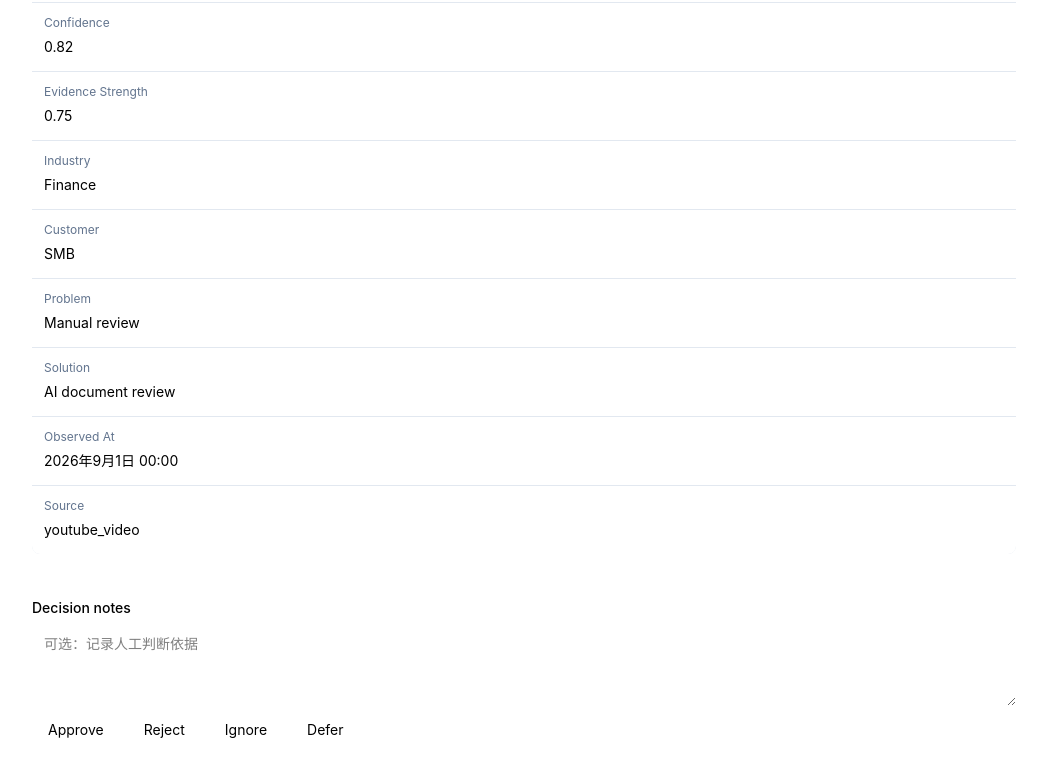
Test: Admin review workspace › sends centralized defer signal decision with notes
(page scrolled)
Type "Human checked" into the text box labelled "Decision notes".
click(524, 664); type("Human checked")  # box left=32, top=622, right=1016, bottom=706
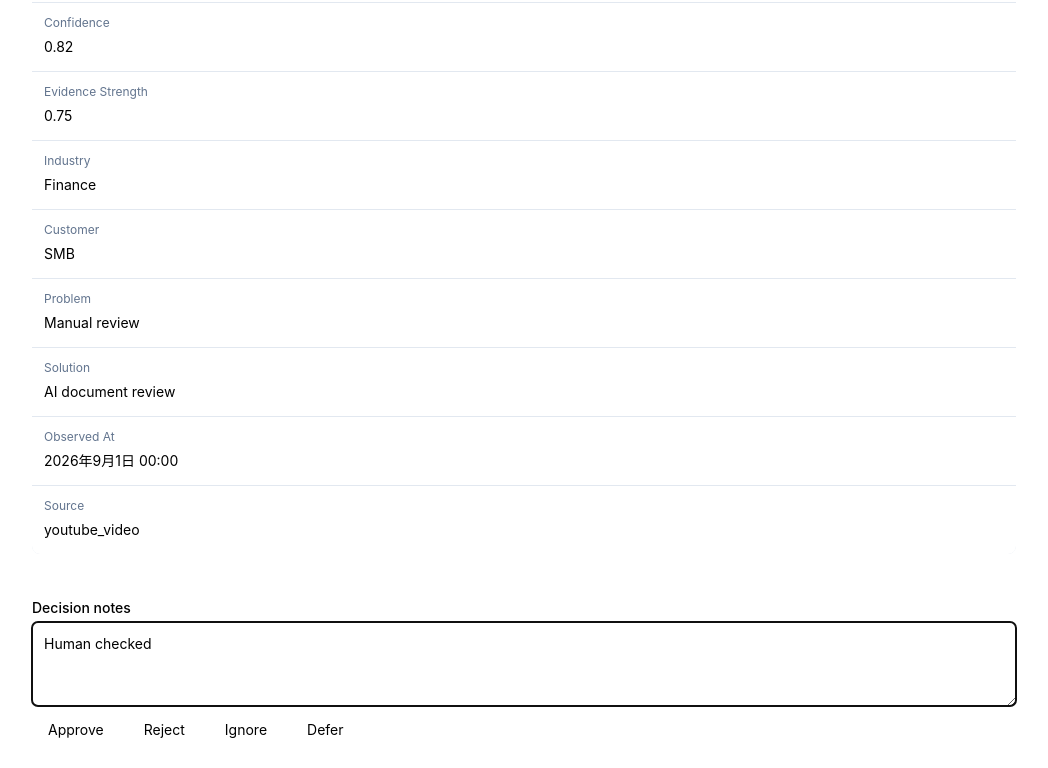
Click the button "Defer".
click(325, 730)  # box left=291, top=712, right=360, bottom=748
(page scrolled)
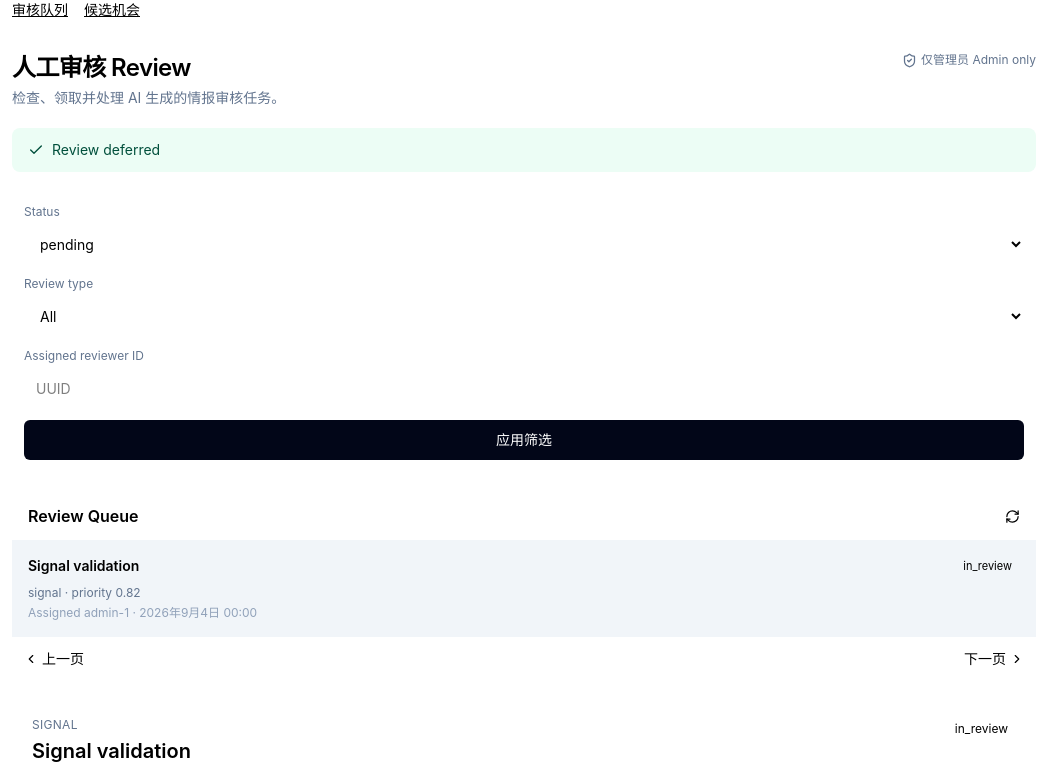
Now the message reads "Review deferred", box left=52, top=141, right=160, bottom=158
